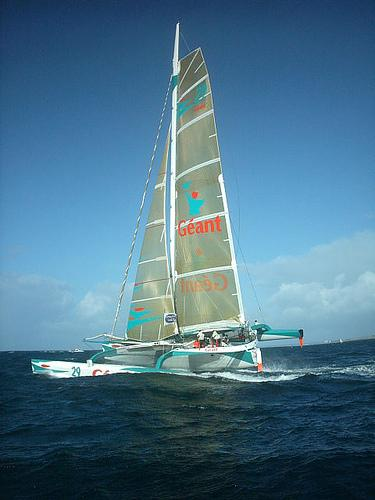Ship: (31, 22, 308, 382)
